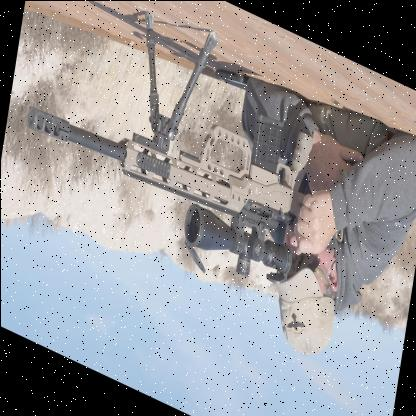rifle: (17, 7, 313, 283)
